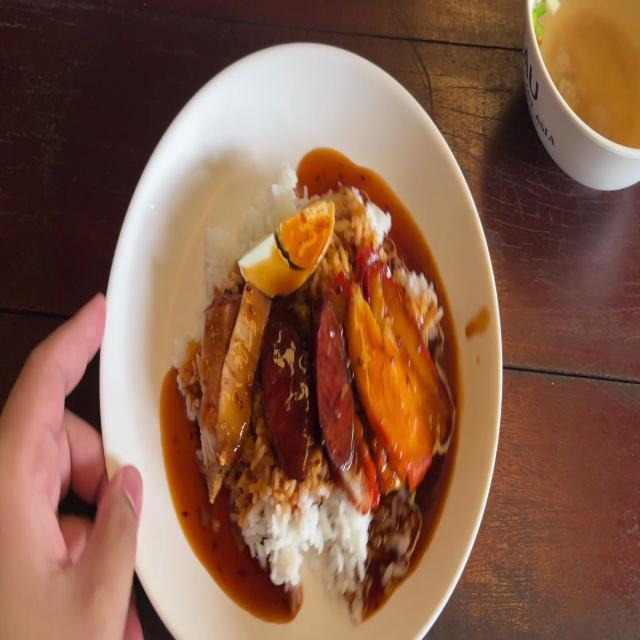red_pork_and_crispy_pork: (239, 201, 335, 289)
stir_fried_basil: (266, 288, 352, 474), (263, 302, 310, 478), (316, 305, 354, 460)
